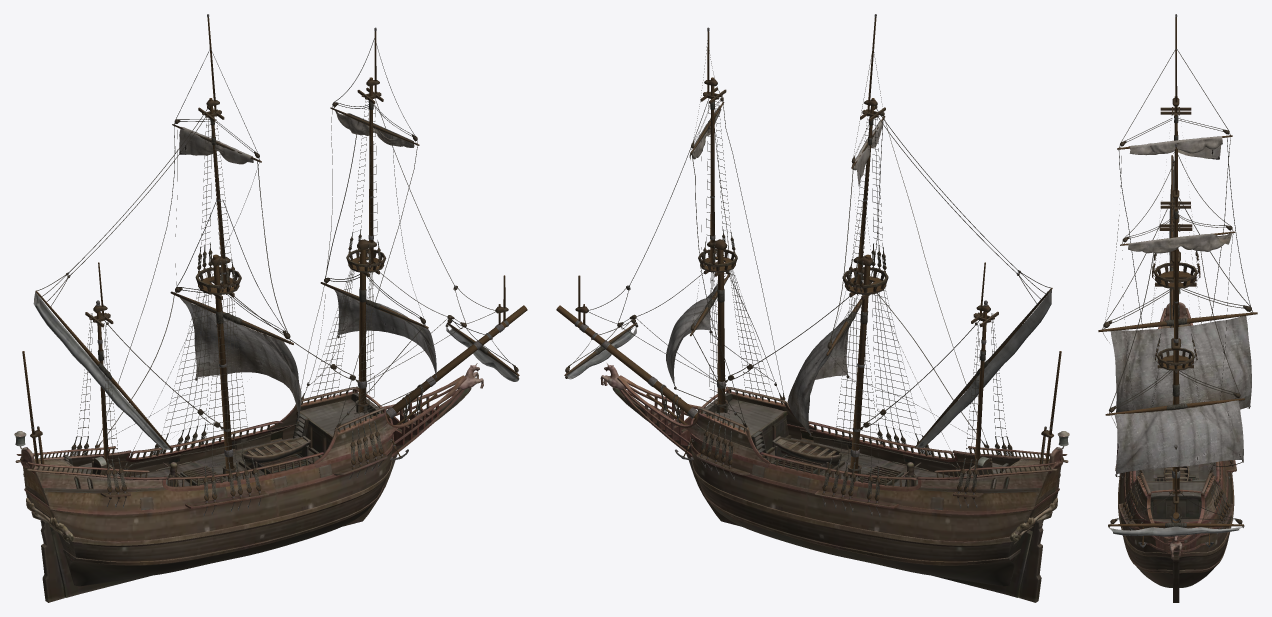
Rendered from dutch_ship_medium.glb.
3 renders of one model, left to right at view 1: azimuth 30°, elevation 25°; view 2: azimuth 150°, elevation 25°; view 3: azimuth 270°, elevation 25°, orthographic. The views are drawn at different scales.
Visible parts, largest first — view 1: dutch_ship_medium_hull, dutch_ship_medium_rigging, dutch_ship_medium_sails; view 2: dutch_ship_medium_hull, dutch_ship_medium_rigging, dutch_ship_medium_sails; view 3: dutch_ship_medium_sails, dutch_ship_medium_rigging, dutch_ship_medium_hull.
Boxes of the visible parts, <box> form: dutch_ship_medium_hull: <box>14,363,483,602</box>; dutch_ship_medium_rigging: <box>22,14,527,516</box>; dutch_ship_medium_sails: <box>179,111,436,419</box>; dutch_ship_medium_hull: <box>600,363,1069,602</box>; dutch_ship_medium_rigging: <box>556,14,1061,516</box>; dutch_ship_medium_sails: <box>666,105,882,433</box>; dutch_ship_medium_sails: <box>1110,136,1251,474</box>; dutch_ship_medium_rigging: <box>1098,14,1257,547</box>; dutch_ship_medium_hull: <box>1115,289,1236,602</box>.
Size of the model in its own units: 24.07 by 24.66 by 6.81.
3 materials, 3 textured.
